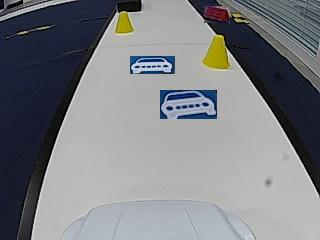block: (118, 0, 141, 12)
cone: (202, 35, 232, 70), (115, 14, 134, 33)
